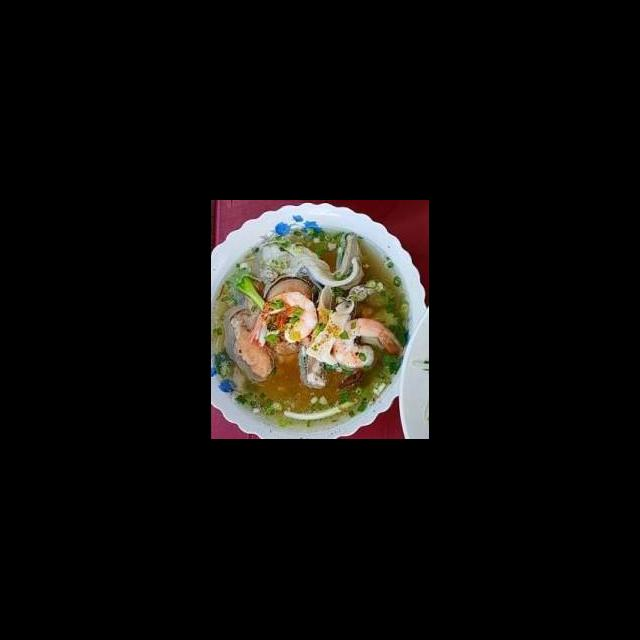tom: (328, 312, 405, 373), (246, 288, 320, 350)
